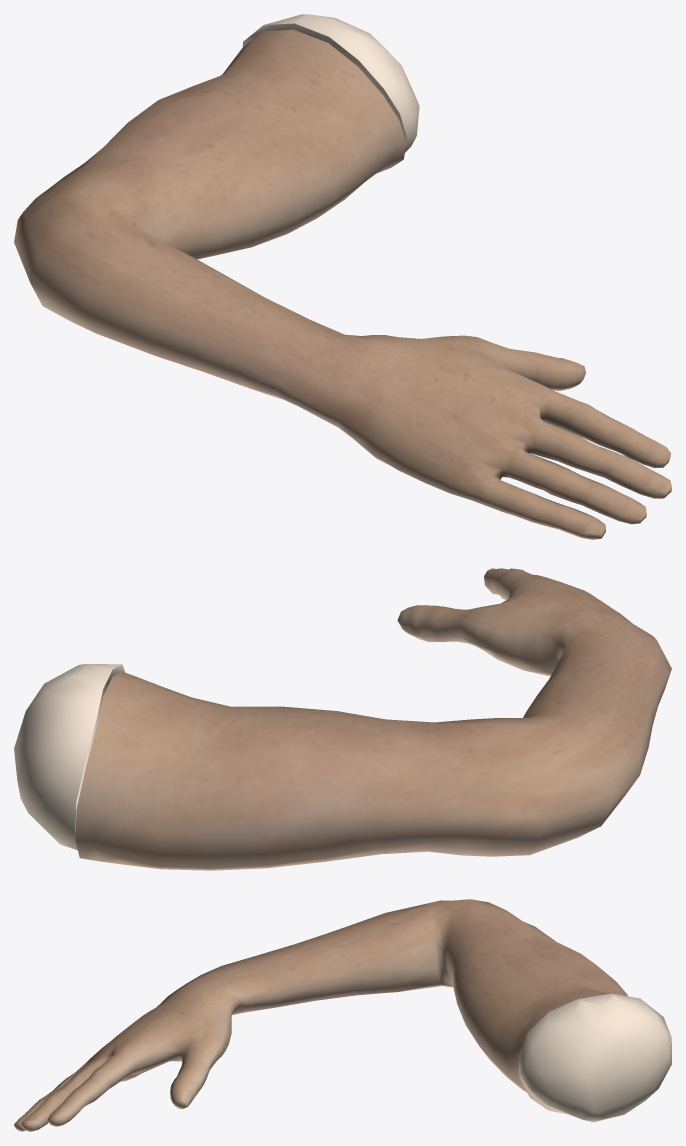
File: rightHand.fbx
3 renders of one model, top to bottom at view 1: azimuth 30°, elevation 25°; view 2: azimuth 150°, elevation 25°; view 3: azimuth 270°, elevation 25°, orthographic. The views are drawn at different scales.
Visible parts, largest first — view 1: rightHand; view 2: rightHand; view 3: rightHand.
Part boxes in pixels (x1,y1,x2,y2): rightHand: (14,14,671,539); rightHand: (14,568,671,870); rightHand: (14,899,671,1131).
Size of the model in its own units: 1360 by 615 by 2221.
